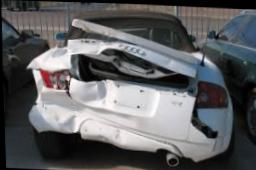Bumper: (26, 78, 233, 163)
Dickey: (39, 19, 197, 93)
Light: (39, 68, 72, 90)
